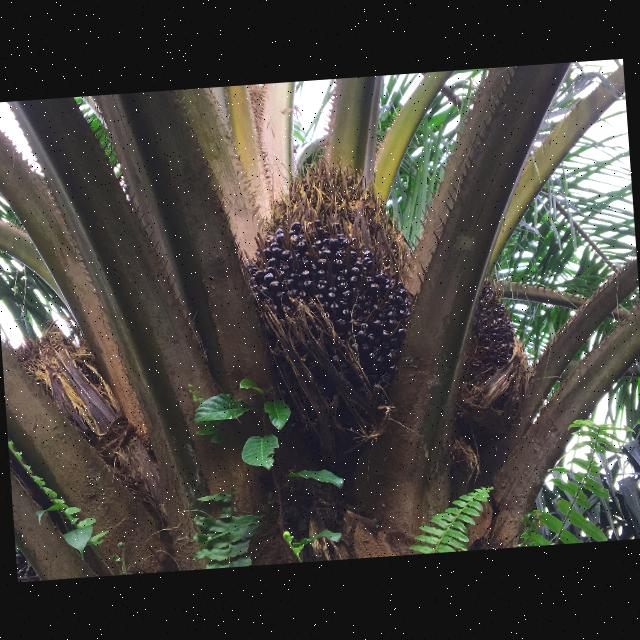Unripe: (250, 223, 419, 453)
